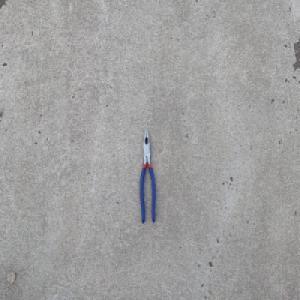Pliers: (139, 127, 156, 225)
